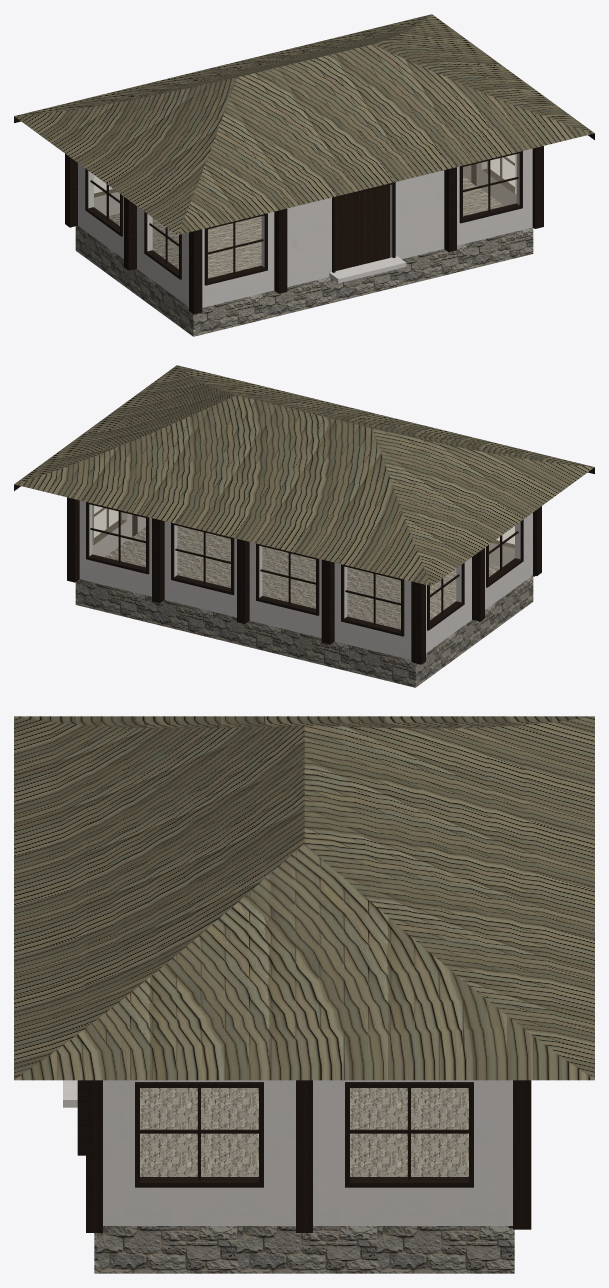
Rendered from hanok_01.glb.
3 renders of one model, top to bottom at view 1: azimuth 30°, elevation 25°; view 2: azimuth 150°, elevation 25°; view 3: azimuth 270°, elevation 25°, orthographic. The views are drawn at different scales.
Parts seen in each view (by area): view 1: hanok_01; view 2: hanok_01; view 3: hanok_01.
Part boxes in pixels (x1,y1,x2,y2): hanok_01: (14, 14, 594, 336); hanok_01: (14, 365, 594, 687); hanok_01: (14, 716, 594, 1273).
Bounding box in the file's own units: 12.3 × 5.38 × 8.3.
Materials: 6 (5 with a texture image).
